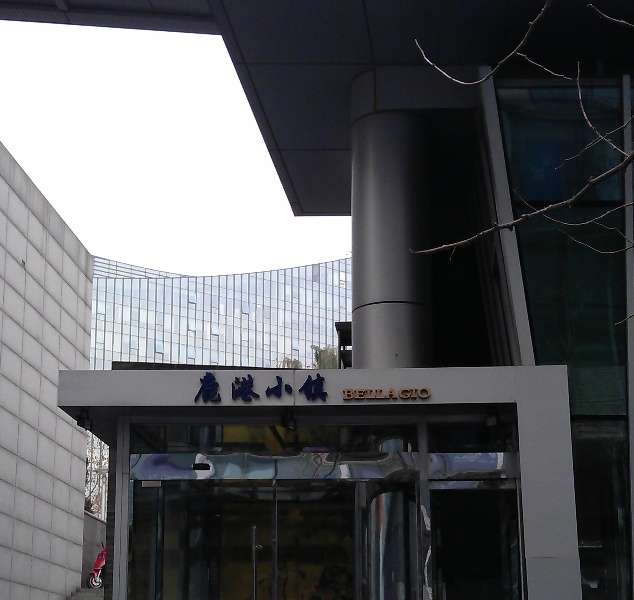text: (209, 372, 224, 403), (225, 372, 240, 403), (241, 372, 256, 403), (257, 372, 272, 403), (273, 372, 288, 403), (289, 372, 304, 403), (305, 372, 320, 403), (194, 372, 208, 403), (321, 372, 329, 403), (353, 387, 368, 403), (369, 387, 384, 403), (385, 387, 400, 403), (401, 387, 416, 403), (417, 387, 431, 403), (343, 387, 352, 403)
